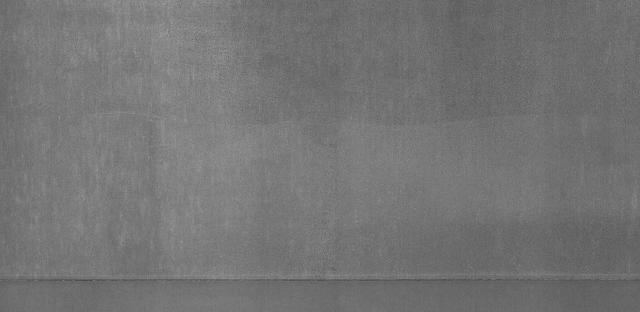welding_line: (1, 267, 640, 293)
